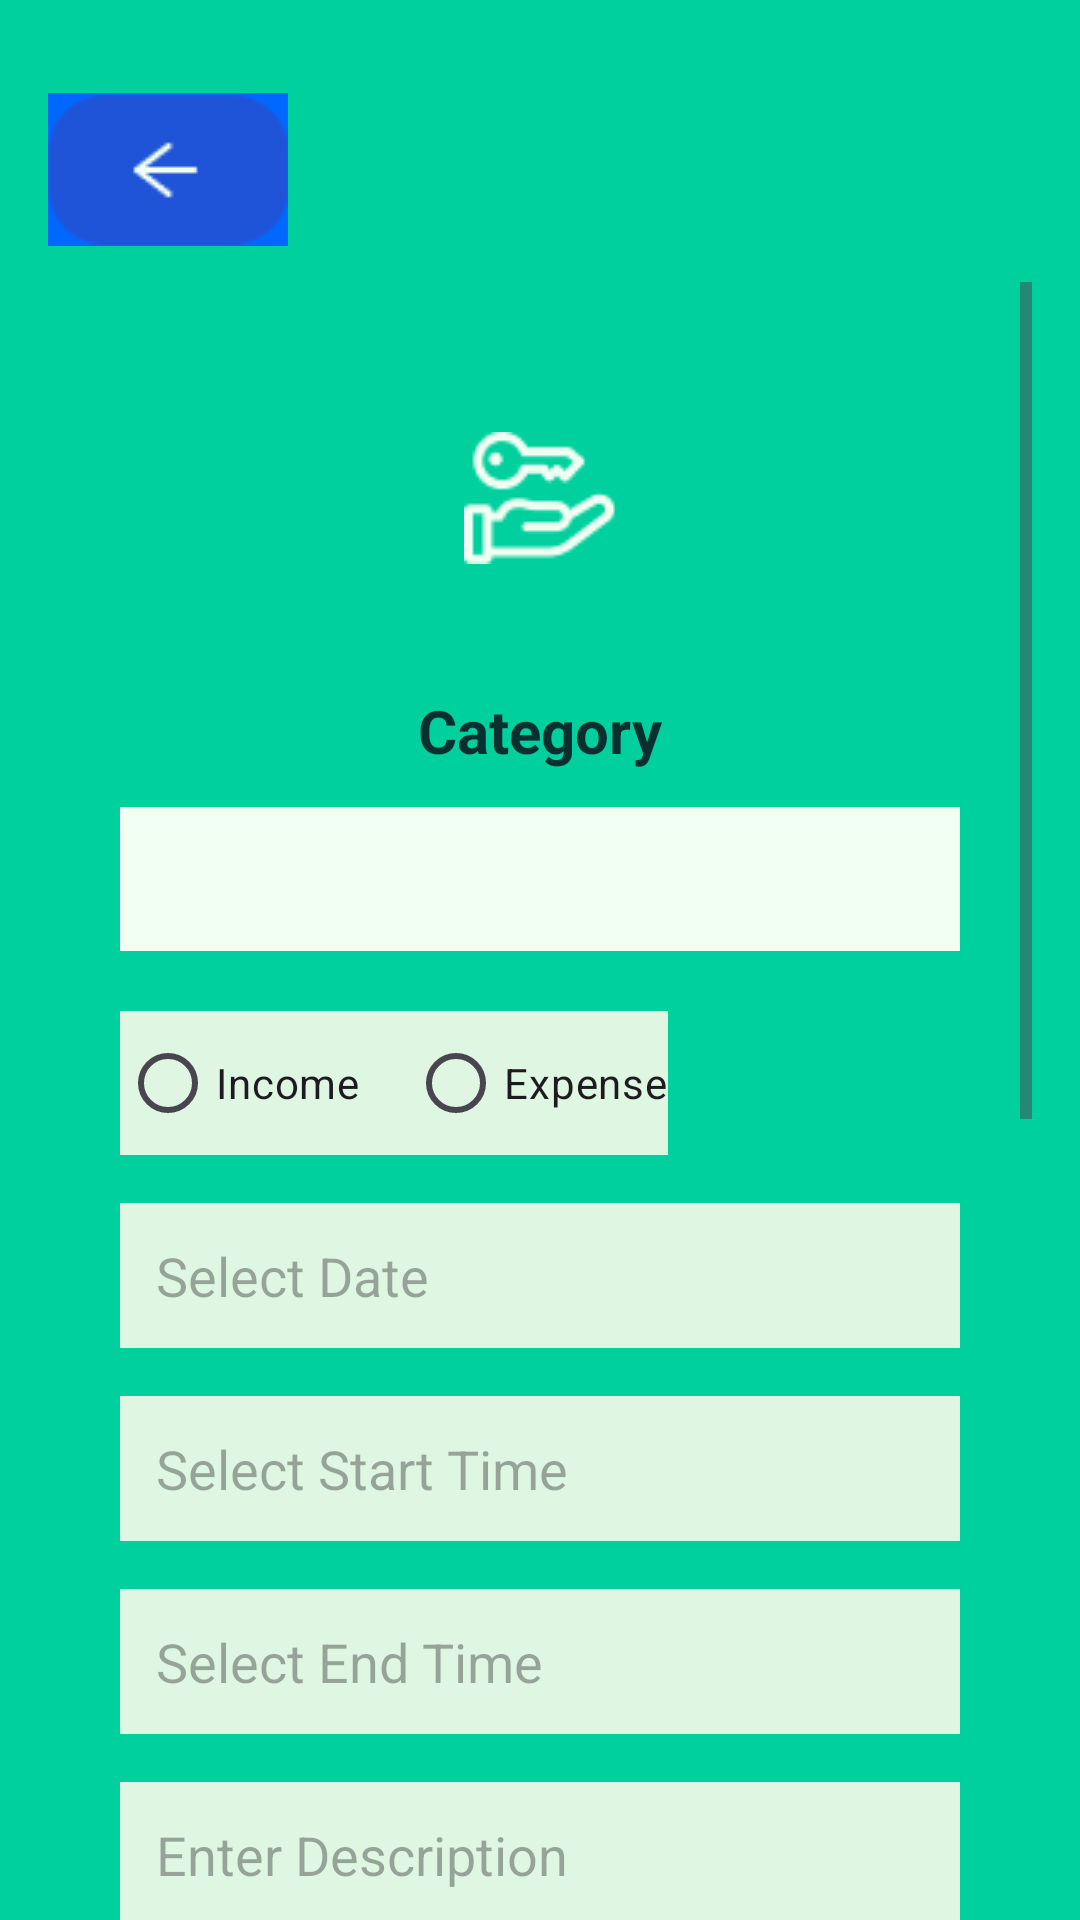

Icons on this 1080px×1920px Android screen, each with its box as [left=x1, top=y1, right=x2, bottom=y2]:
button to go back: [left=48, top=93, right=288, bottom=246]
